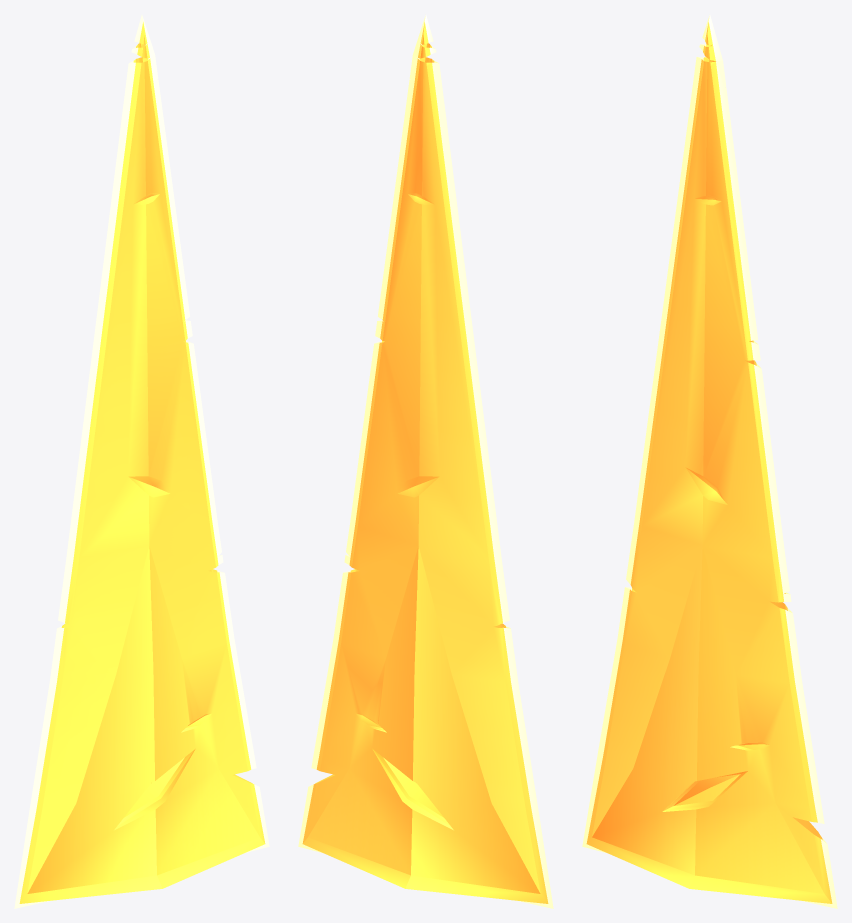
File: gold_blade_scratched_044.glb
The picture shows the model from 3 angles, left to right: view 1: azimuth 30°, elevation 25°; view 2: azimuth 150°, elevation 25°; view 3: azimuth 330°, elevation 25°; orthographic projection.
Visible parts, largest first — view 1: gold_blade_scratched.044; view 2: gold_blade_scratched.044; view 3: gold_blade_scratched.044.
Part boxes in pixels (x1,y1,x2,y2): gold_blade_scratched.044: (14,15,269,908); gold_blade_scratched.044: (298,15,553,908); gold_blade_scratched.044: (582,15,837,908).
Bounding box in the file's own units: 3.52 × 11.43 × 0.9907.
Materials: 1 (1 with a texture image).
